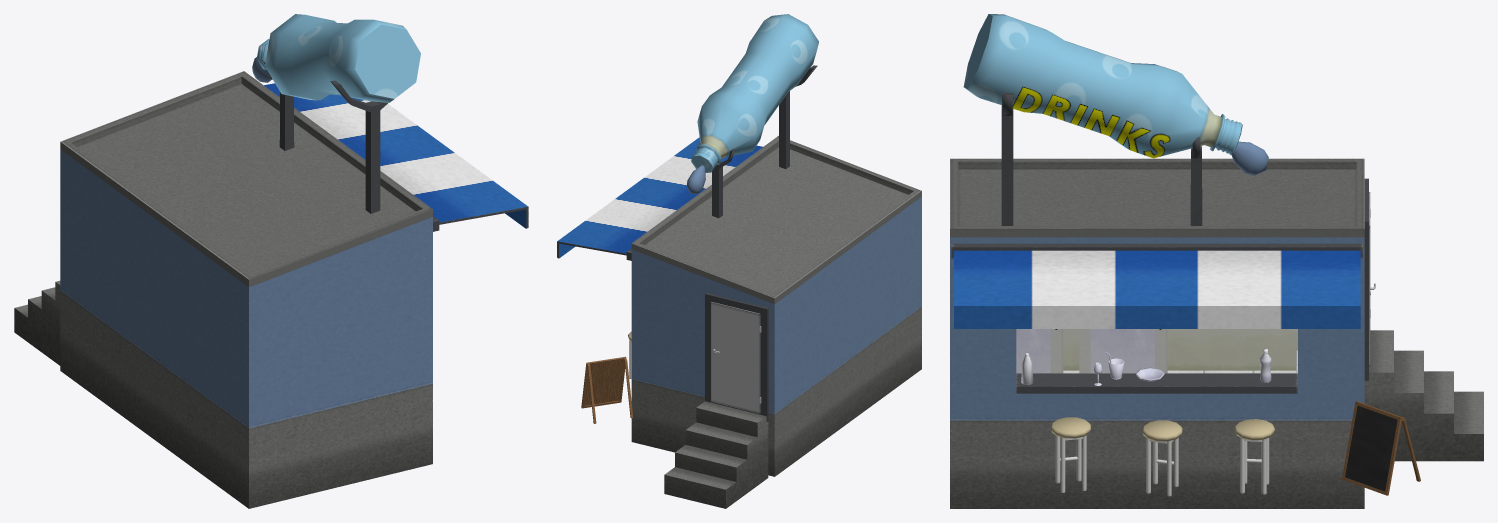
The model's file is StandsDrink.fbx.
The picture shows the model from 3 angles, left to right: view 1: azimuth 30°, elevation 25°; view 2: azimuth 150°, elevation 25°; view 3: azimuth 270°, elevation 25°; orthographic projection. The views are drawn at different scales.
Parts seen in each view (by area): view 1: Drink_Stand; view 2: Drink_Stand, Drink_Stand_Door, Pizza_Stand_Sign; view 3: Drink_Stand, Stools, Pizza_Stand_Sign, Fridge_Door2_Glass, Fridge_Door_Glass, Decoration1, Fridge_Door2.
Part boxes in pixels (bbox=[...]): Drink_Stand: bbox=[14, 14, 528, 508]; Drink_Stand: bbox=[557, 14, 921, 508]; Drink_Stand_Door: bbox=[711, 302, 761, 413]; Pizza_Stand_Sign: bbox=[581, 356, 633, 423]; Drink_Stand: bbox=[950, 14, 1483, 508]; Stools: bbox=[1051, 417, 1274, 496]; Pizza_Stand_Sign: bbox=[1342, 401, 1420, 495]; Fridge_Door2_Glass: bbox=[1090, 329, 1154, 373]; Fridge_Door_Glass: bbox=[1016, 329, 1050, 373]; Decoration1: bbox=[1021, 348, 1271, 385]; Fridge_Door2: bbox=[1079, 329, 1165, 373].
Bounding box in the file's own units: 439 × 651 × 657.
